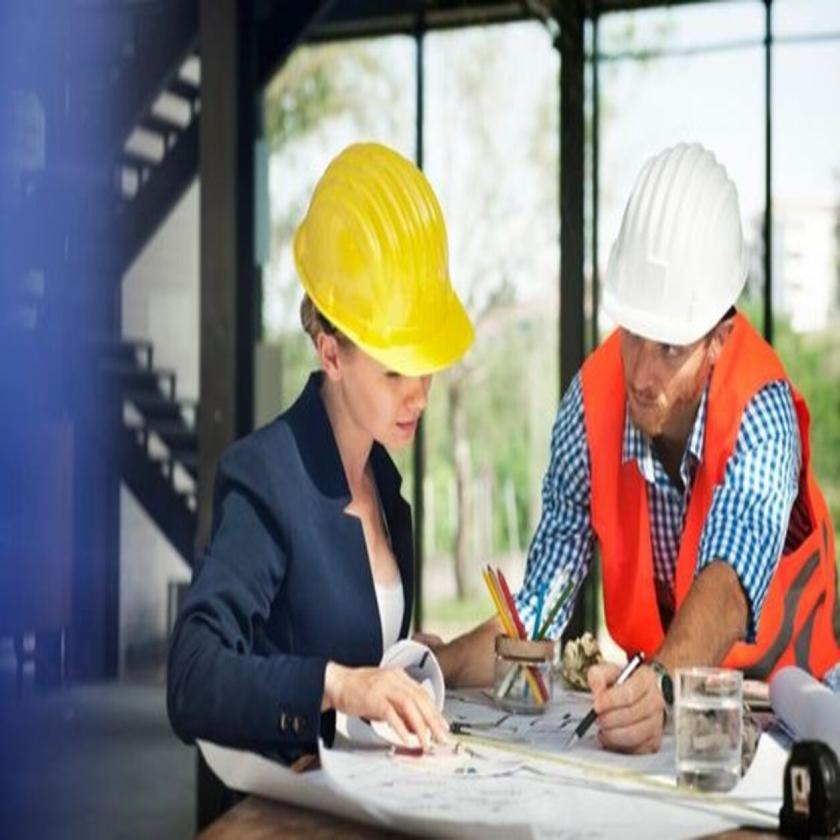Con_casco: (290, 137, 480, 460), (601, 143, 753, 445)
